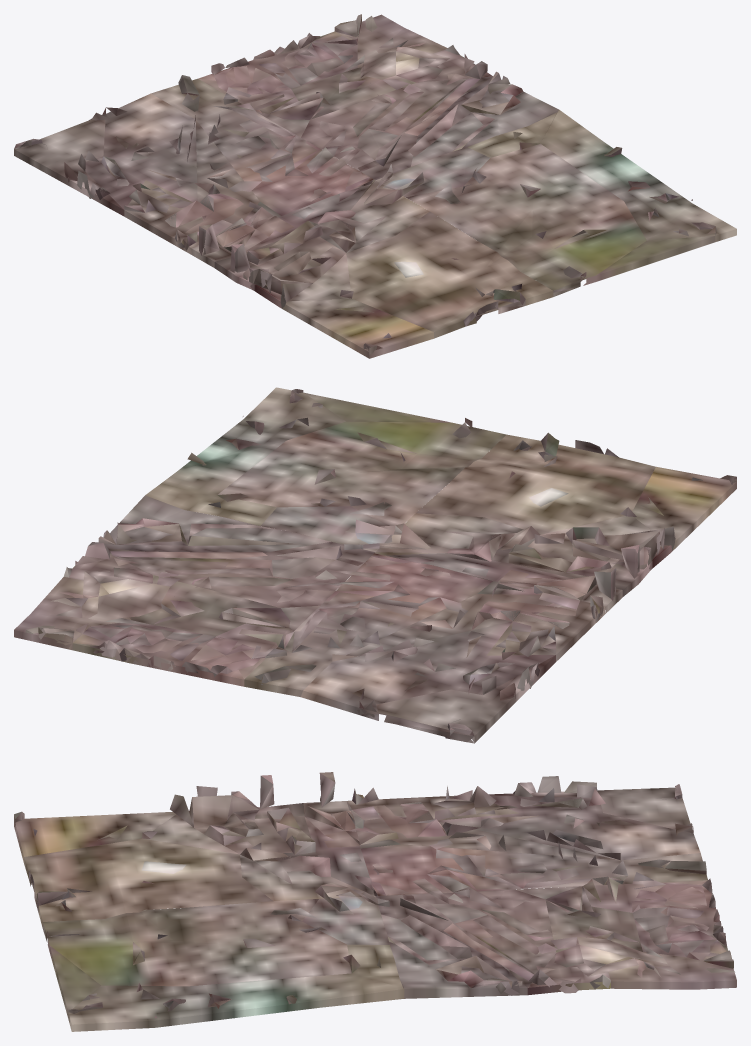
3 views of the same model, one above another, from view 1: azimuth 30°, elevation 25°; view 2: azimuth 150°, elevation 25°; view 3: azimuth 270°, elevation 25° (orthographic). The views are drawn at different scales.
Parts seen in each view (by area): view 1: Mesh_0; view 2: Mesh_0; view 3: Mesh_0.
Boxes of the visible parts, x1,y1,x2,y2 form: Mesh_0: [14, 14, 736, 358]; Mesh_0: [14, 387, 736, 743]; Mesh_0: [14, 772, 736, 1031].
Size of the model in its own units: 1064 by 89.12 by 1318.
Materials: 1 (1 with a texture image).
